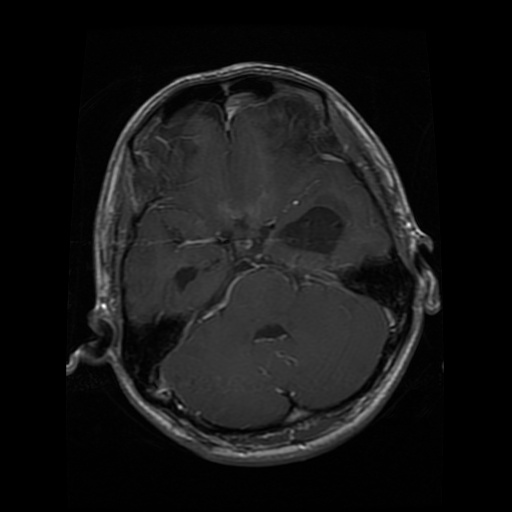glioma: (275, 203, 345, 256)
